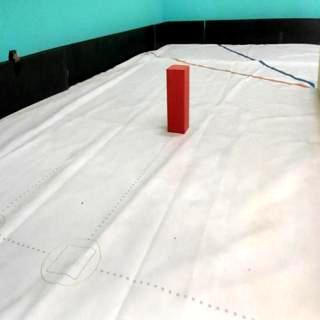redbox: (167, 63, 190, 135)
